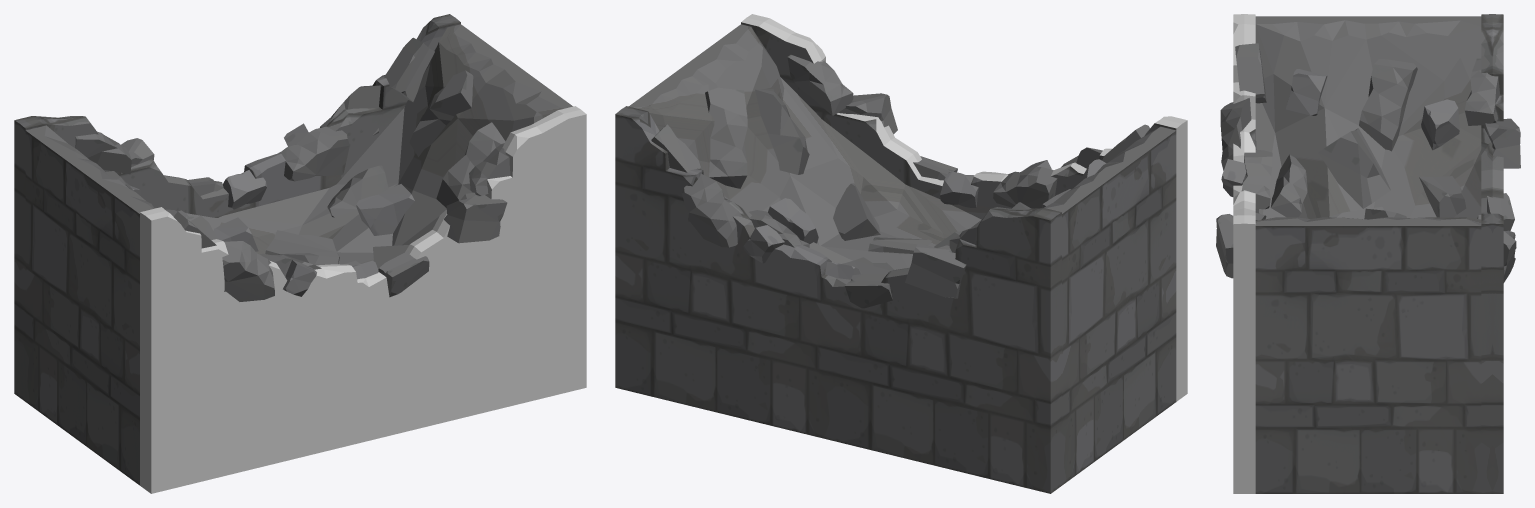
Rendered from SM_Bld_Wall_L_Damaged_Double_02.fbx.
3 renders of one model, left to right at view 1: azimuth 30°, elevation 25°; view 2: azimuth 150°, elevation 25°; view 3: azimuth 270°, elevation 25°, orthographic.
Parts seen in each view (by area): view 1: SM_Bld_Wall_L_Damaged_Double_02; view 2: SM_Bld_Wall_L_Damaged_Double_02; view 3: SM_Bld_Wall_L_Damaged_Double_02.
Boxes of the visible parts, x1,y1,x2,y2 form: SM_Bld_Wall_L_Damaged_Double_02: [14, 14, 586, 493]; SM_Bld_Wall_L_Damaged_Double_02: [615, 14, 1187, 493]; SM_Bld_Wall_L_Damaged_Double_02: [1216, 14, 1520, 493].
Size of the model in its own units: 1000 by 601 by 615.
